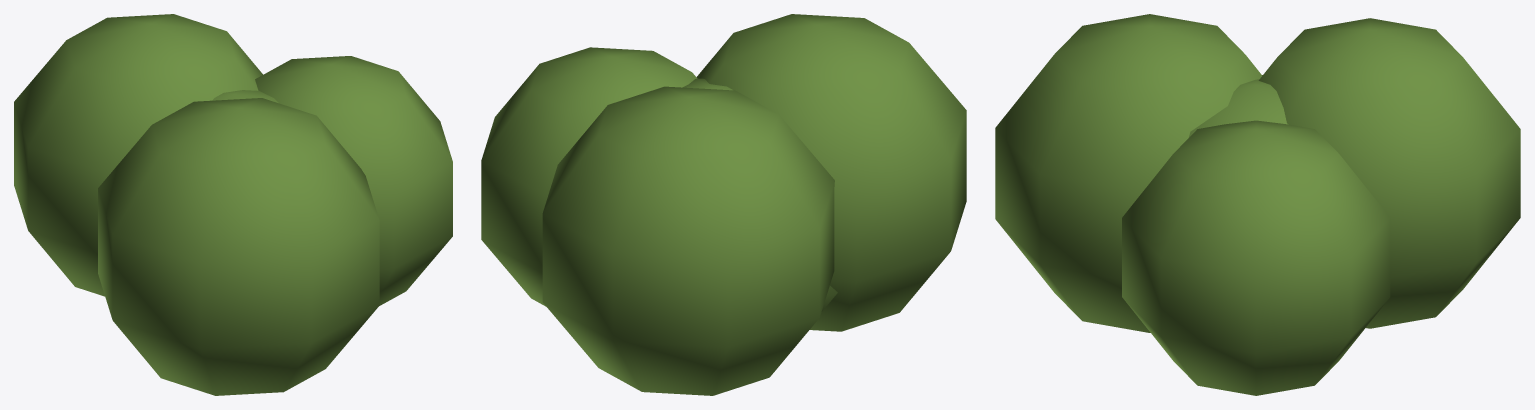
Rendered from prop_bushundefined_5029.glb.
3 views of the same model, side by side, from view 1: azimuth 30°, elevation 25°; view 2: azimuth 150°, elevation 25°; view 3: azimuth 270°, elevation 25° (orthographic). The views are drawn at different scales.
Parts seen in each view (by area): view 1: prop_bushundefined_5029; view 2: prop_bushundefined_5029; view 3: prop_bushundefined_5029.
Boxes of the visible parts, bbox=[...] form: prop_bushundefined_5029: bbox=[14, 14, 452, 395]; prop_bushundefined_5029: bbox=[481, 14, 966, 395]; prop_bushundefined_5029: bbox=[995, 14, 1520, 395].
Size of the model in its own units: 0.5996 by 0.4386 by 0.6806.
1 material, 1 textured.
